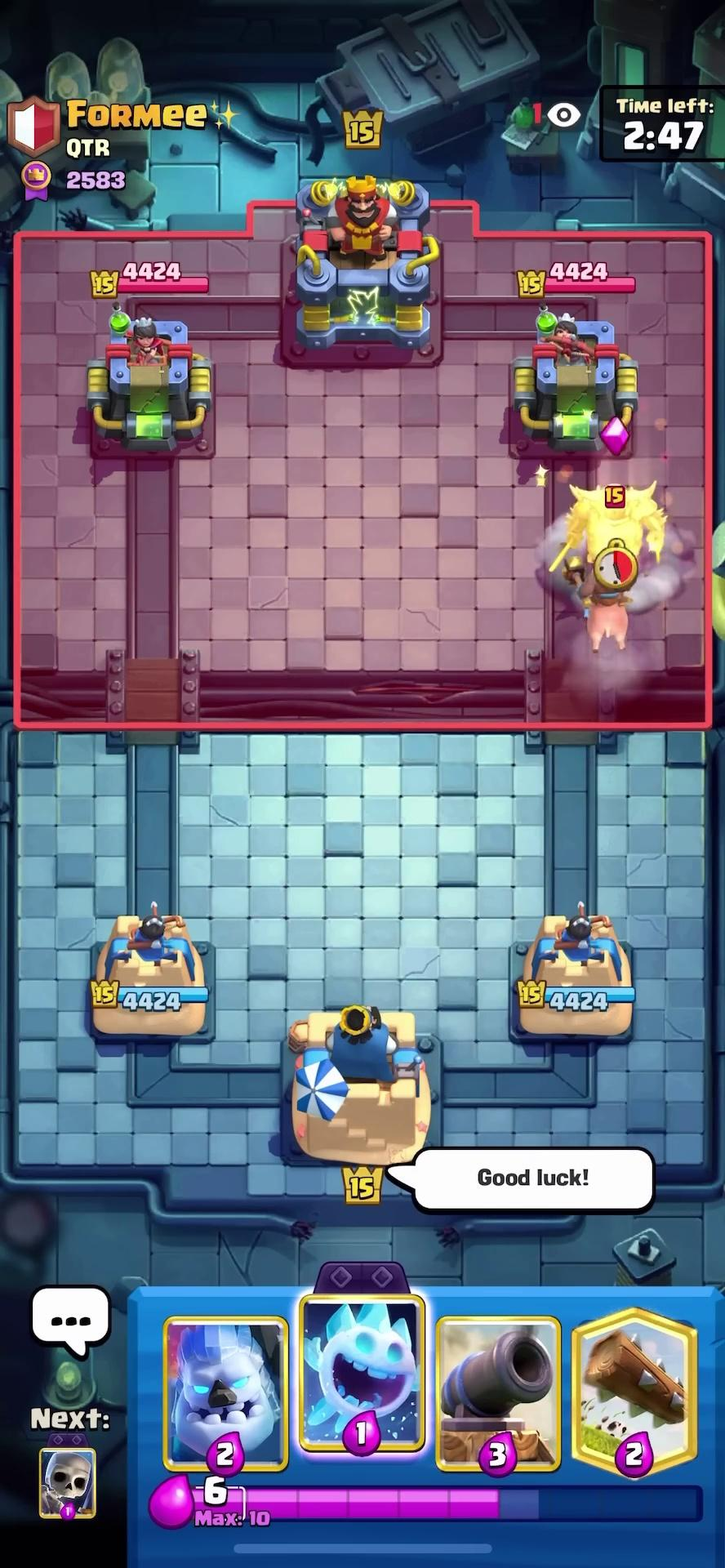hog_rider: (543, 539, 655, 647)
